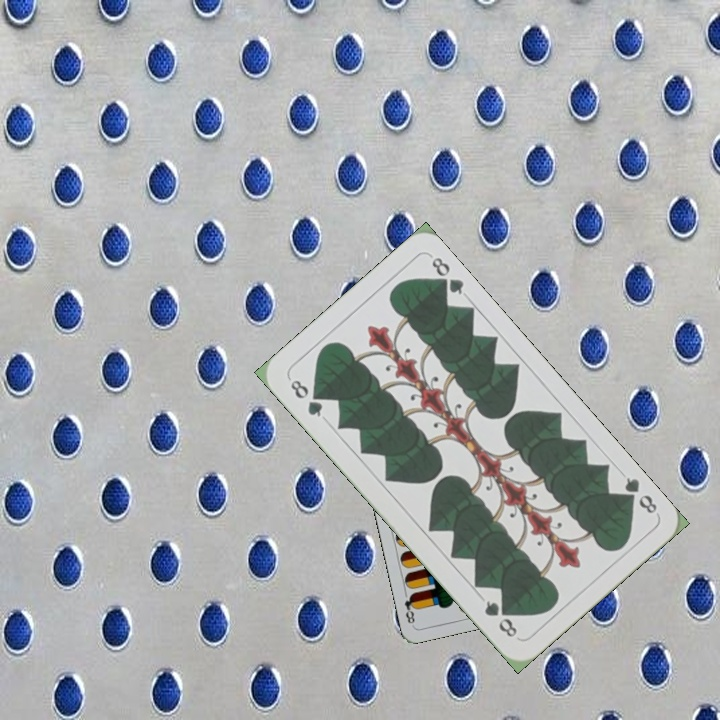G8: (617, 473, 660, 517), (286, 376, 326, 420)
